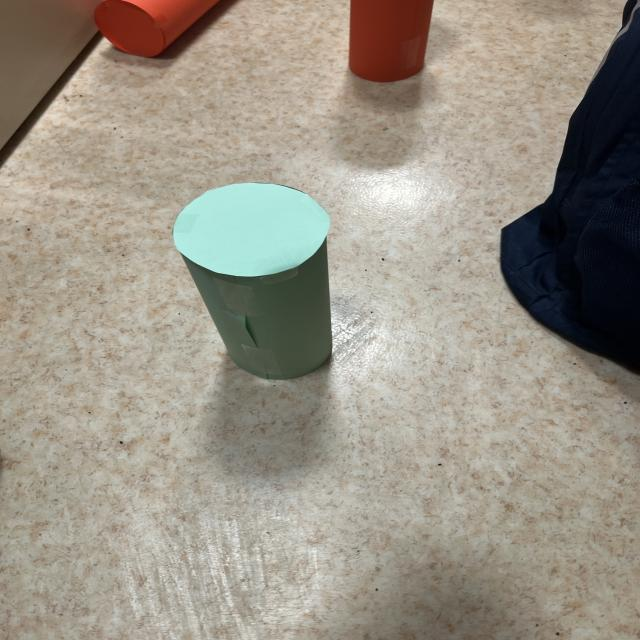meta: (173, 183, 332, 379)
przeszkoda: (95, 0, 220, 57), (349, 0, 433, 81)
